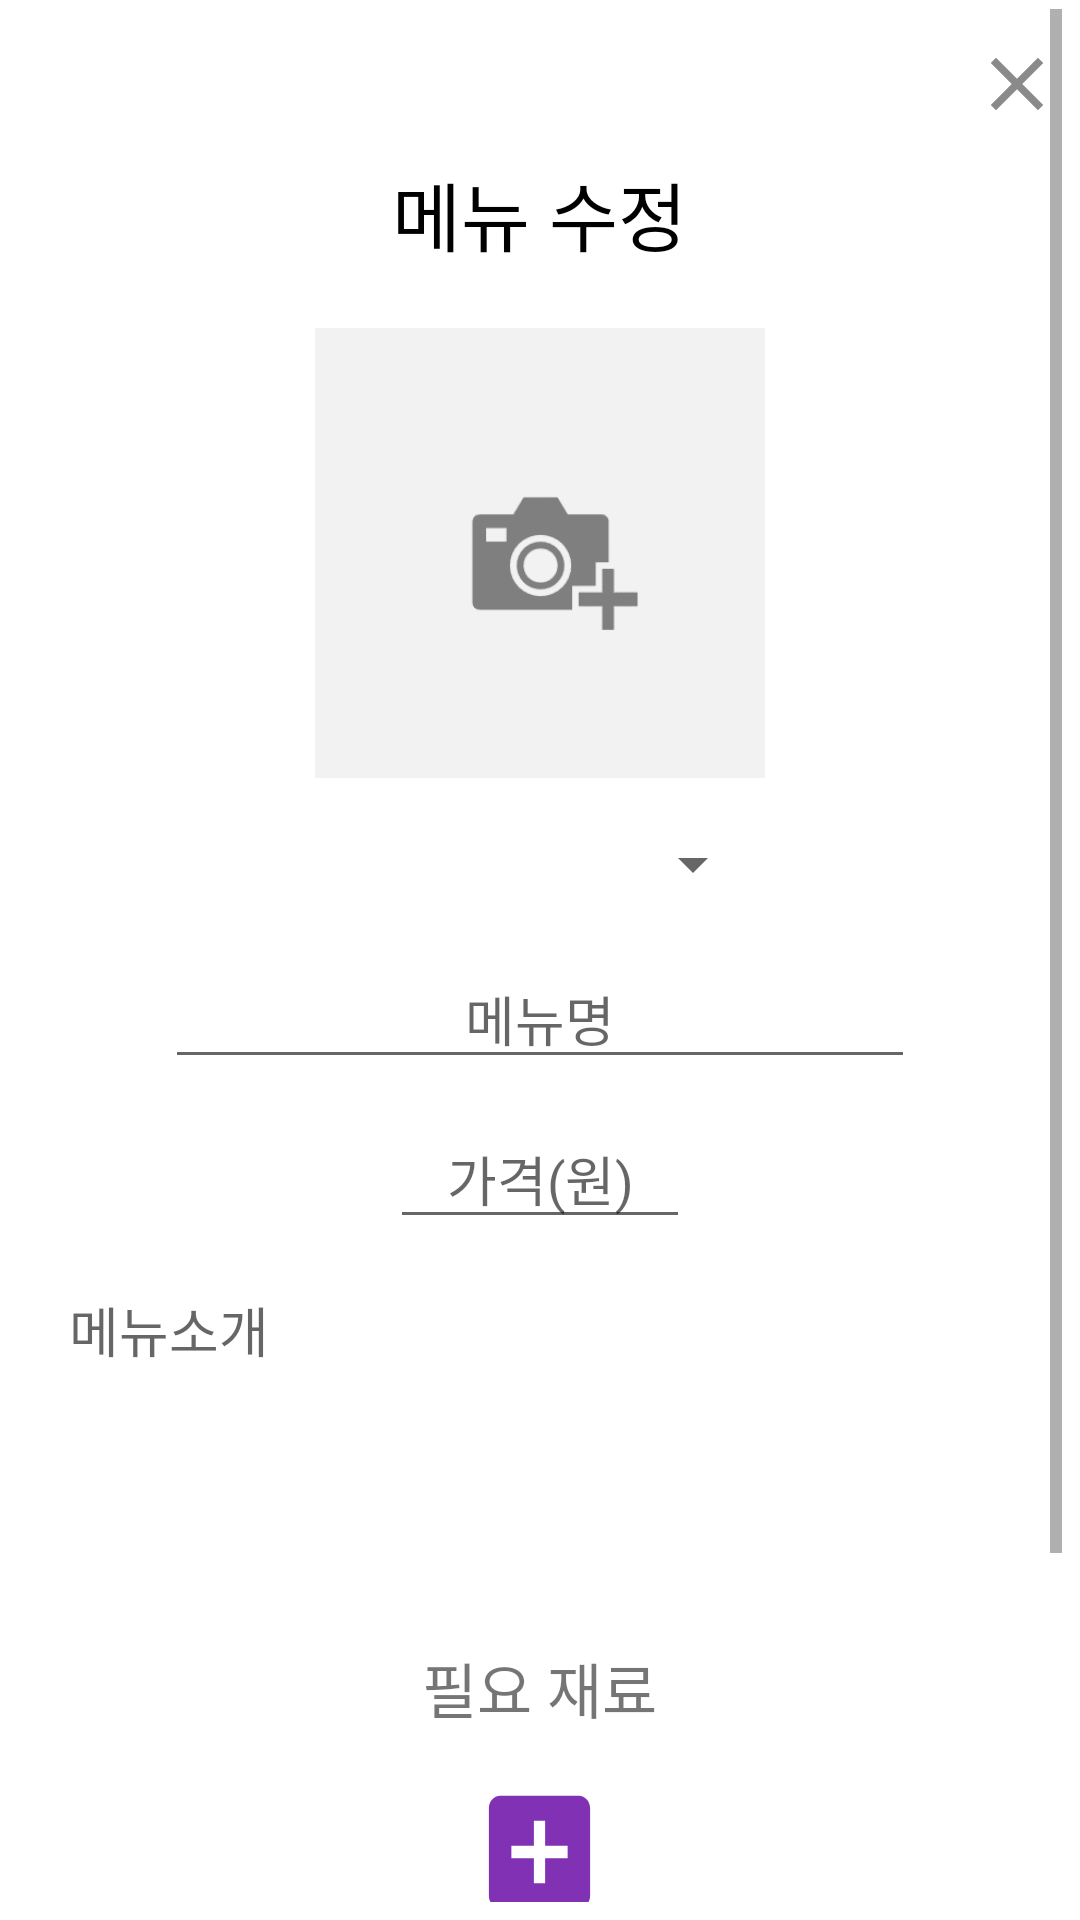

Where to tap for icons on this 1080 x 1920 app screen, as [x,y]:
addphoto: [554,563]
close: [1017,84]
